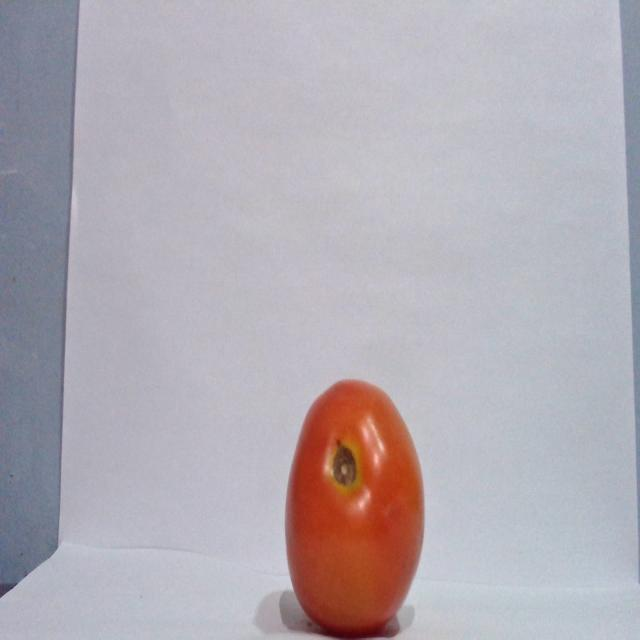Red: (283, 377, 426, 636)
